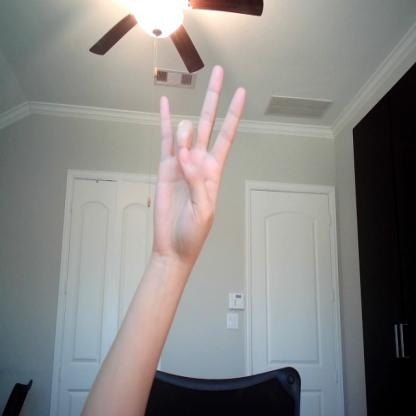seven: (149, 62, 250, 254)
